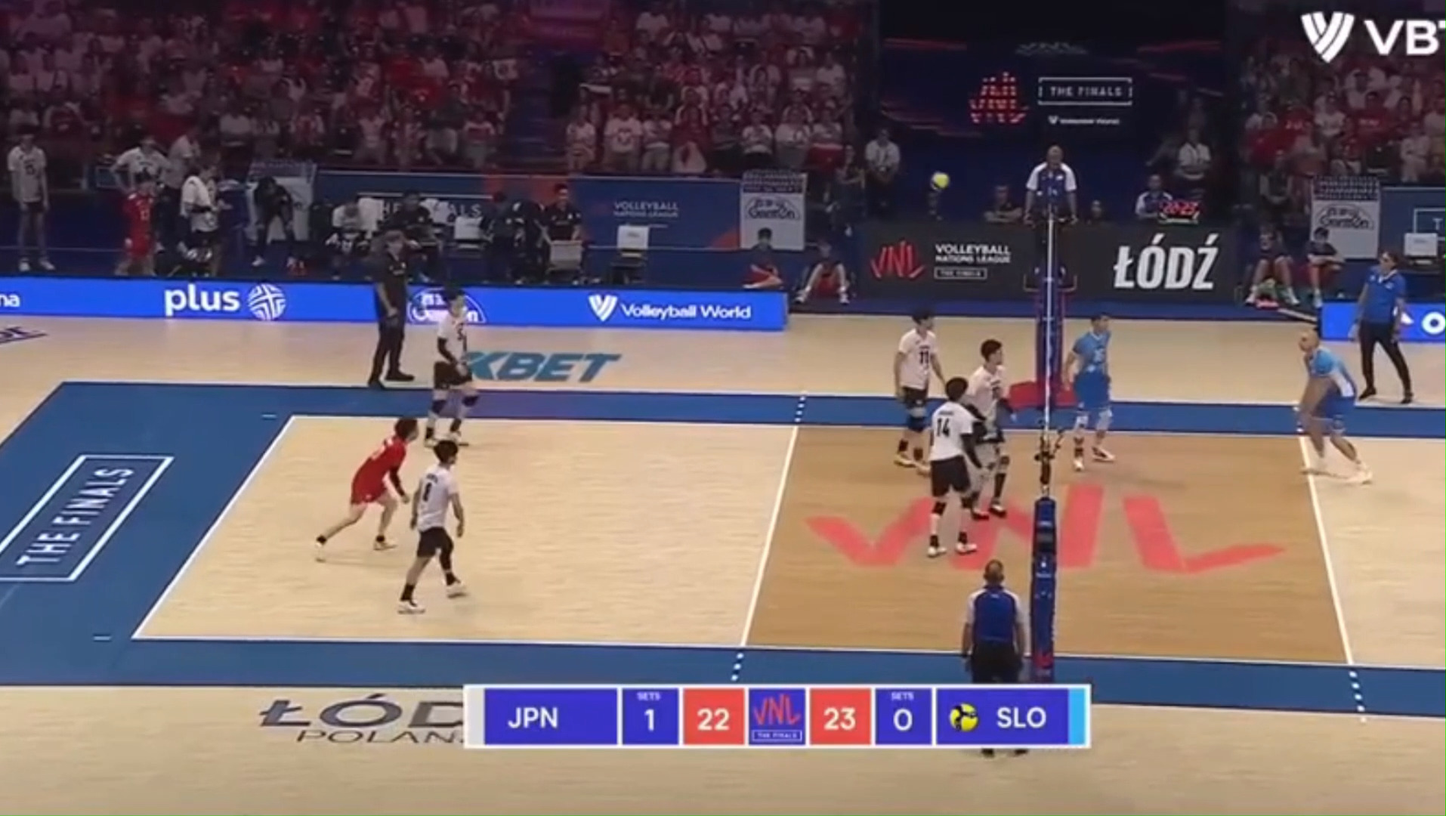ball: (929, 172, 950, 191)
player: (1297, 330, 1370, 483), (1063, 315, 1114, 471)
player 1: (315, 417, 417, 549), (398, 439, 466, 613), (927, 377, 981, 557), (962, 339, 1013, 520), (892, 310, 947, 472), (424, 289, 476, 446)
referee: (1351, 252, 1414, 403), (1023, 146, 1077, 295), (365, 230, 415, 388), (962, 559, 1025, 684)
